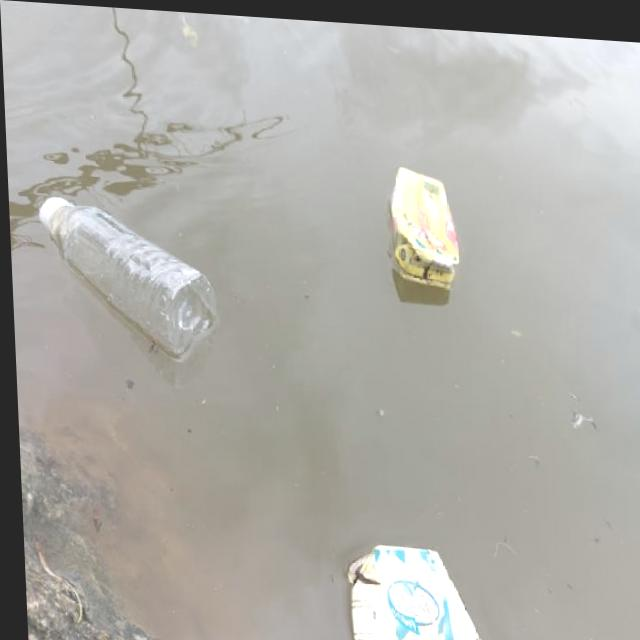paper: (303, 525, 489, 640), (343, 161, 468, 305)
waterbottle: (17, 190, 231, 350)
